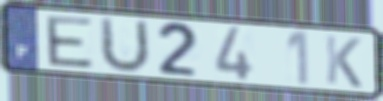1: (282, 28, 311, 88)
2: (155, 18, 204, 83)
4: (212, 25, 256, 83)
E: (43, 15, 96, 71)
K: (323, 33, 364, 90)
U: (97, 15, 153, 75)
